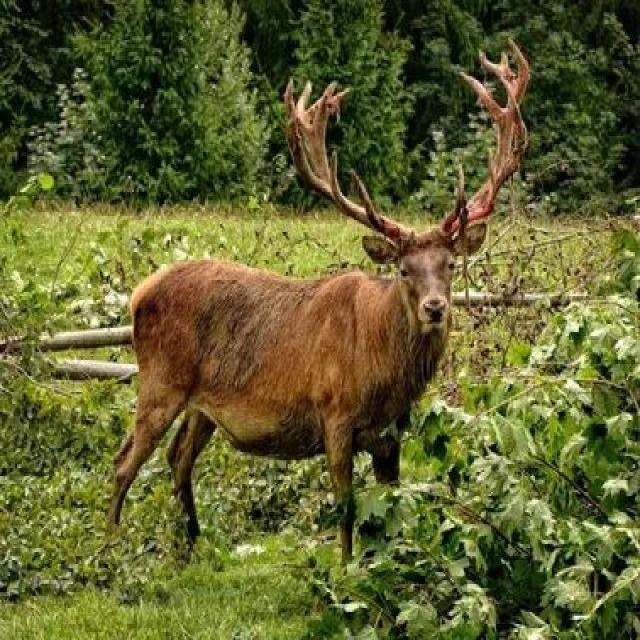deer: (66, 25, 492, 516)
